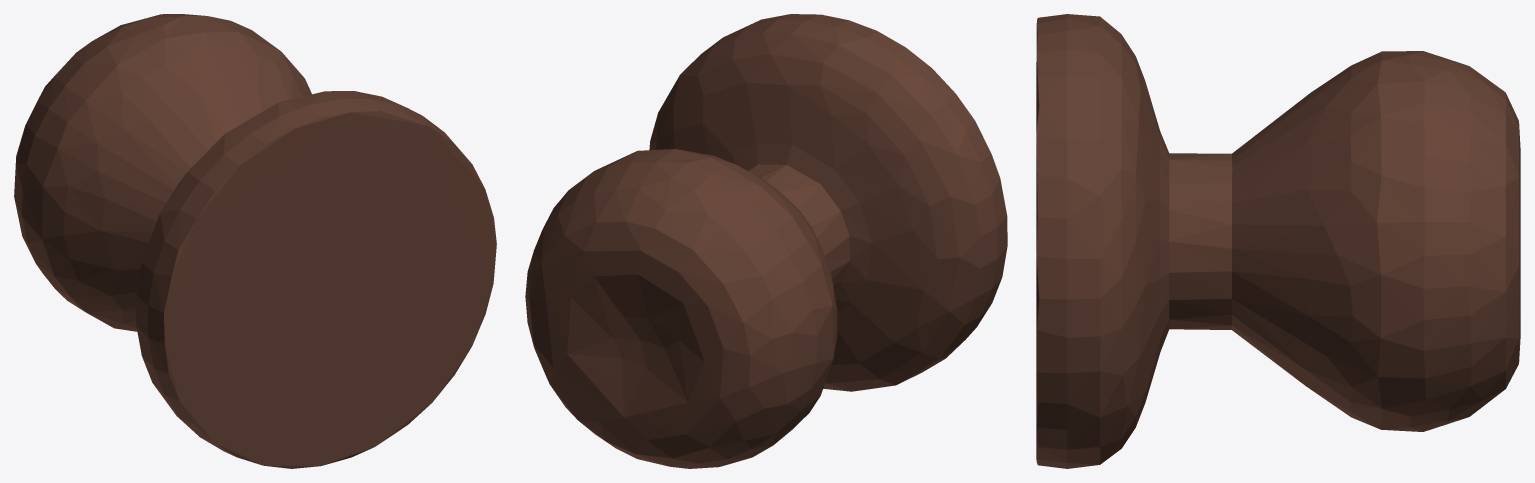
Rendered from BézierCurve.glb.
3 views of the same model, side by side, from view 1: azimuth 30°, elevation 25°; view 2: azimuth 150°, elevation 25°; view 3: azimuth 270°, elevation 25° (orthographic). The views are drawn at different scales.
Parts seen in each view (by area): view 1: BézierCurve.005; view 2: BézierCurve.005; view 3: BézierCurve.005.
Part boxes in pixels (x1=…): BézierCurve.005: x1=14, y1=14, x2=496, y2=468; BézierCurve.005: x1=525, y1=14, x2=1007, y2=468; BézierCurve.005: x1=1036, y1=14, x2=1520, y2=468.
Bounding box in the file's own units: 0.0901 × 0.0902 × 0.096.
